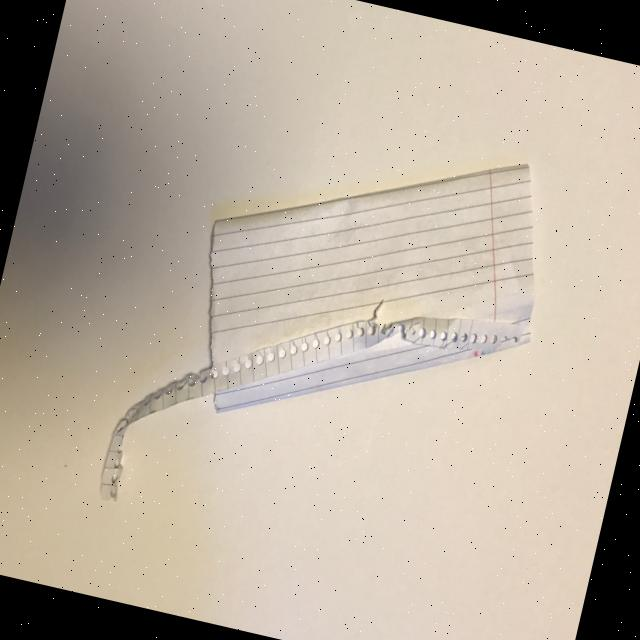paper: (96, 83, 570, 583)
